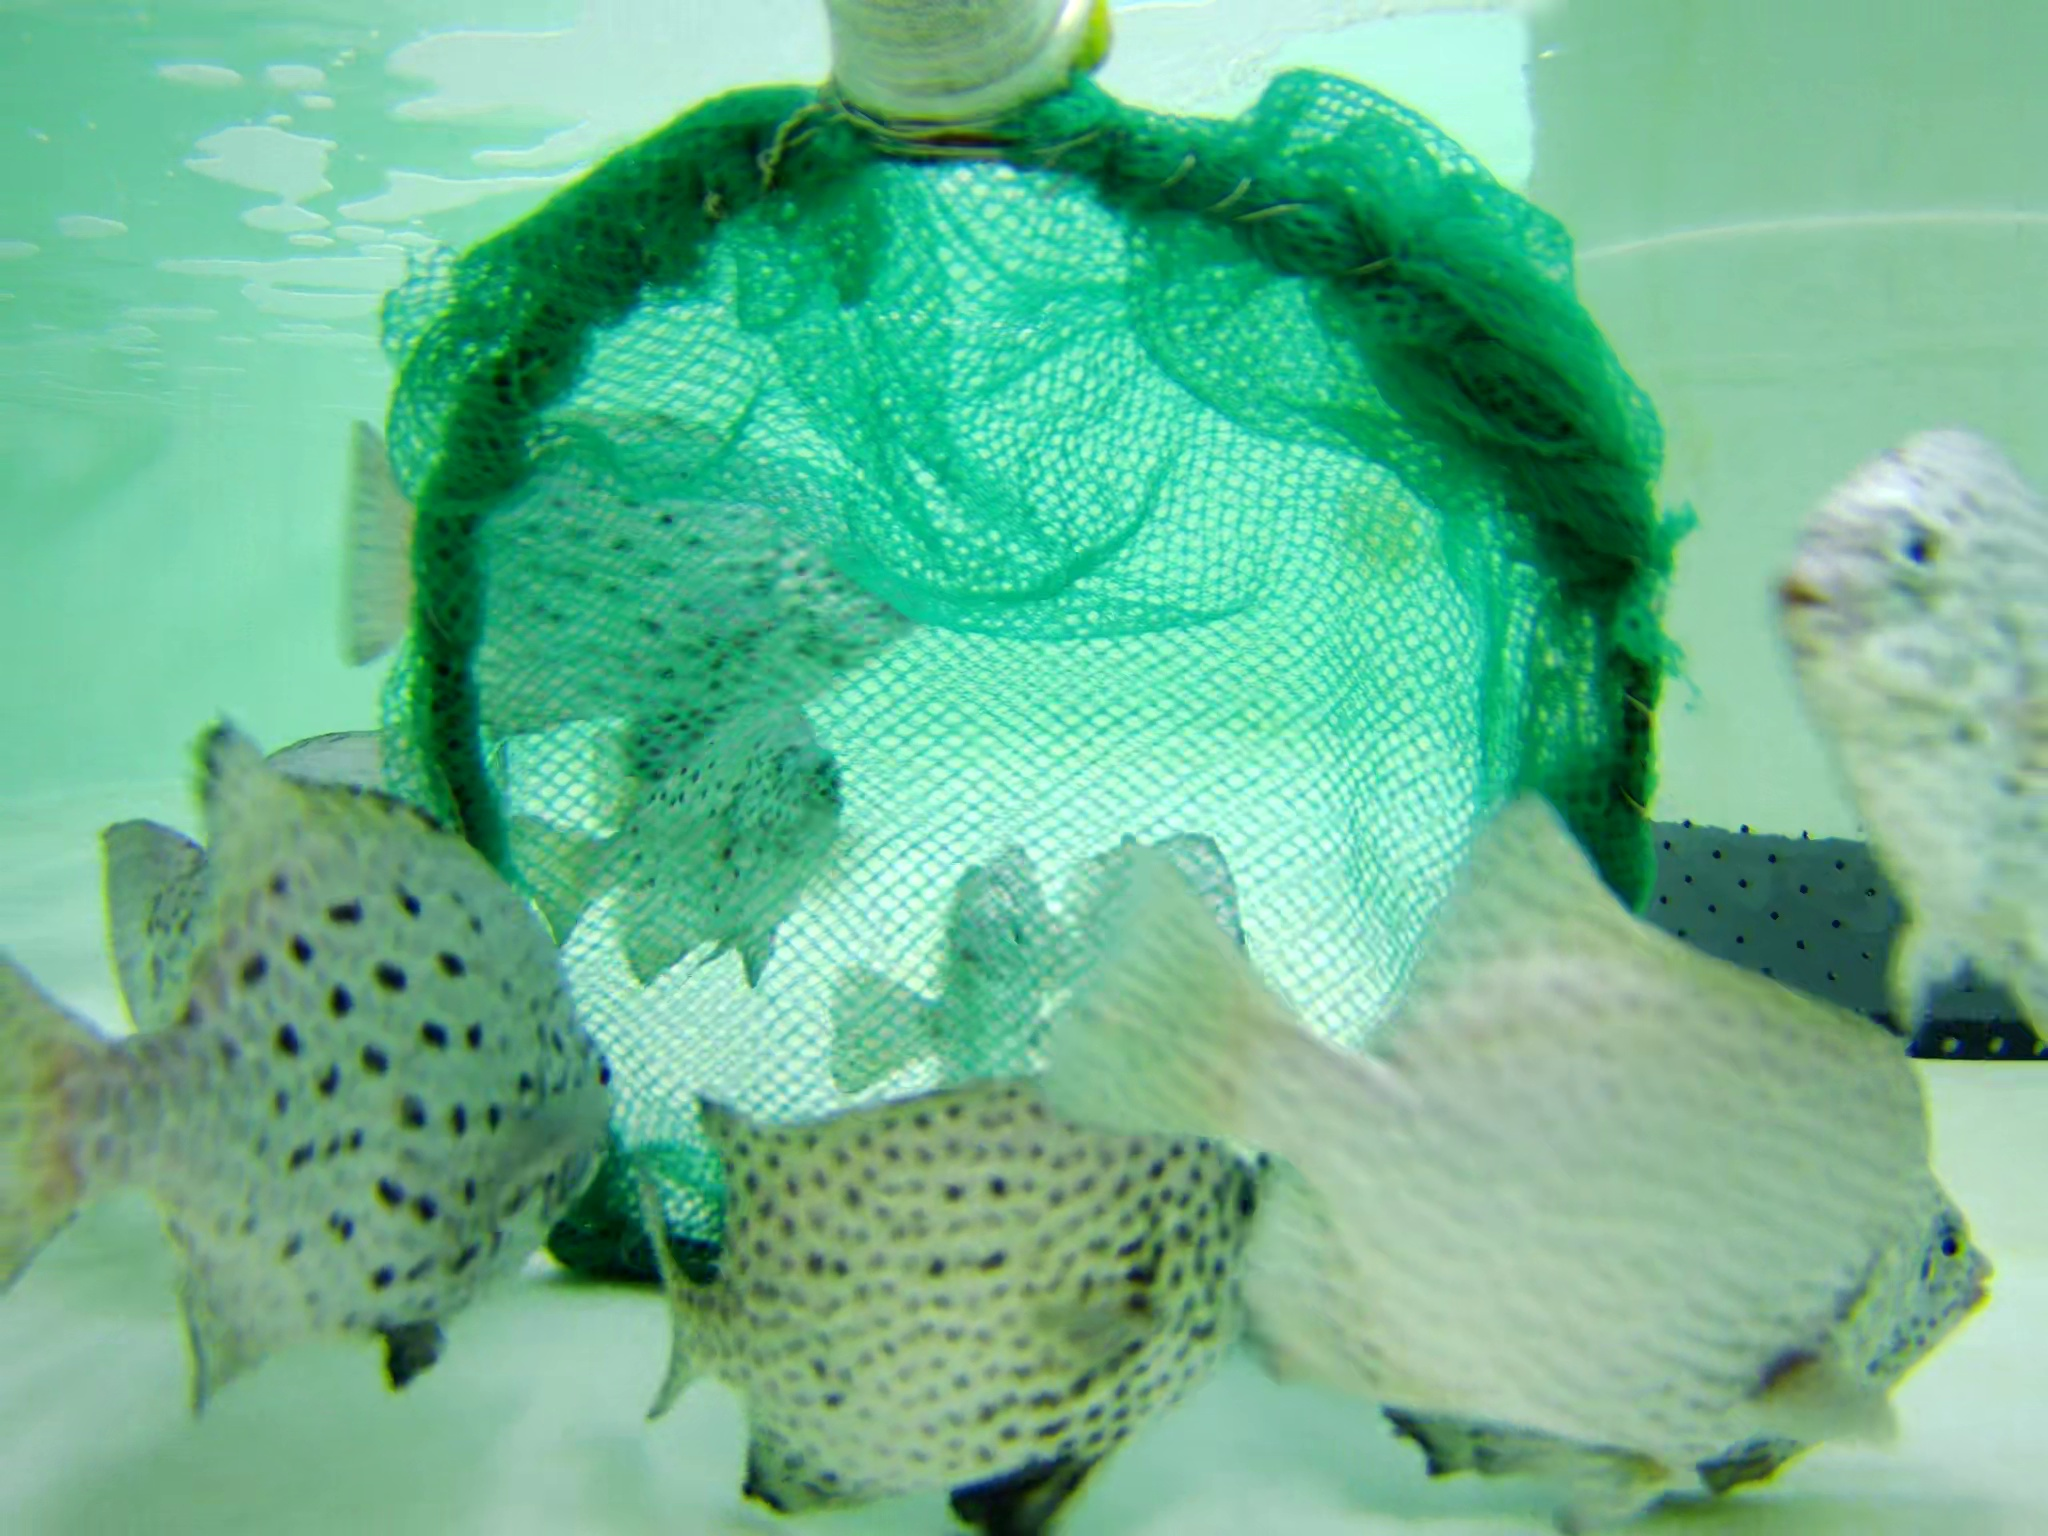fish: (1035, 794, 1998, 1486), (2, 734, 618, 1413), (621, 1073, 1245, 1526), (364, 389, 939, 729), (1774, 413, 2048, 1079), (214, 710, 621, 947), (1392, 1275, 1811, 1501), (585, 655, 827, 973), (951, 821, 1250, 1042), (808, 870, 1043, 1128), (87, 805, 277, 1087)
